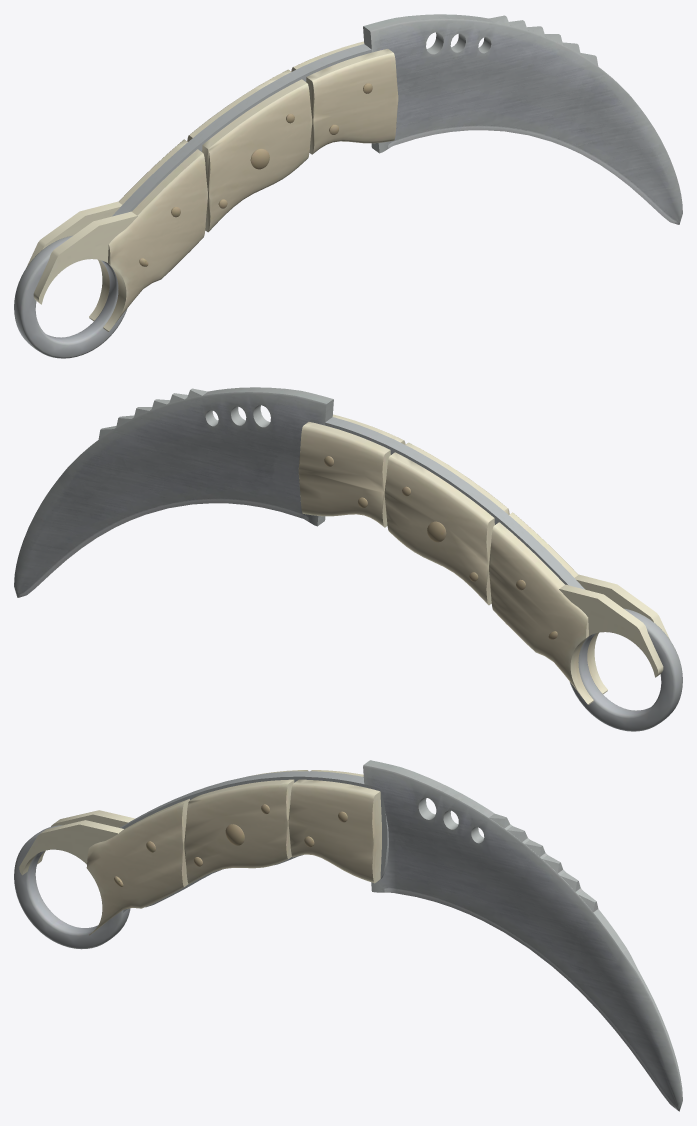
The model's file is talon_lod1.glb.
The picture shows the model from 3 angles, top to bottom: view 1: azimuth 30°, elevation 25°; view 2: azimuth 150°, elevation 25°; view 3: azimuth 330°, elevation 25°; orthographic projection.
Visible parts, largest first — view 1: body; view 2: body; view 3: body.
Boxes of the visible parts, x1,y1,x2,y2 form: body: (14, 14, 682, 358); body: (14, 387, 682, 731); body: (14, 760, 682, 1111).
Bounding box in the file's own units: 0.1919 × 0.0754 × 0.0141.
Materials: 5 (5 with a texture image).
